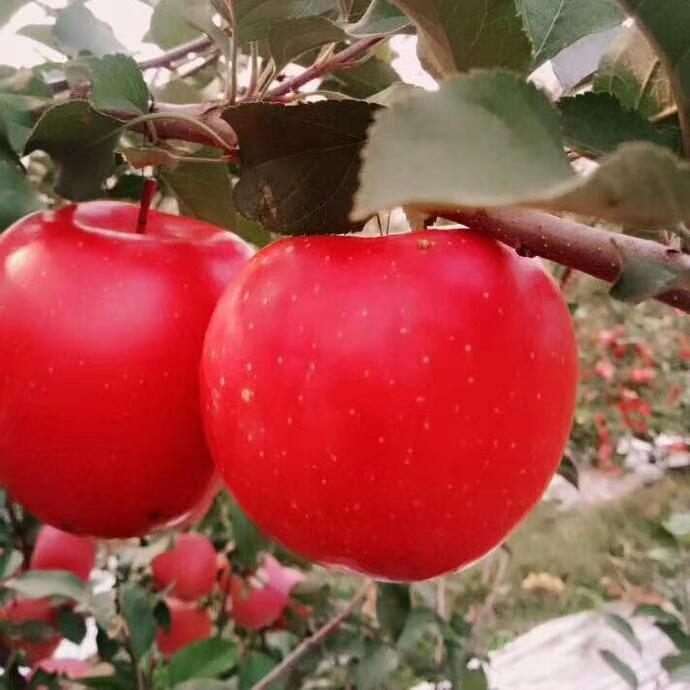apple: (201, 217, 576, 579), (1, 204, 253, 541)
